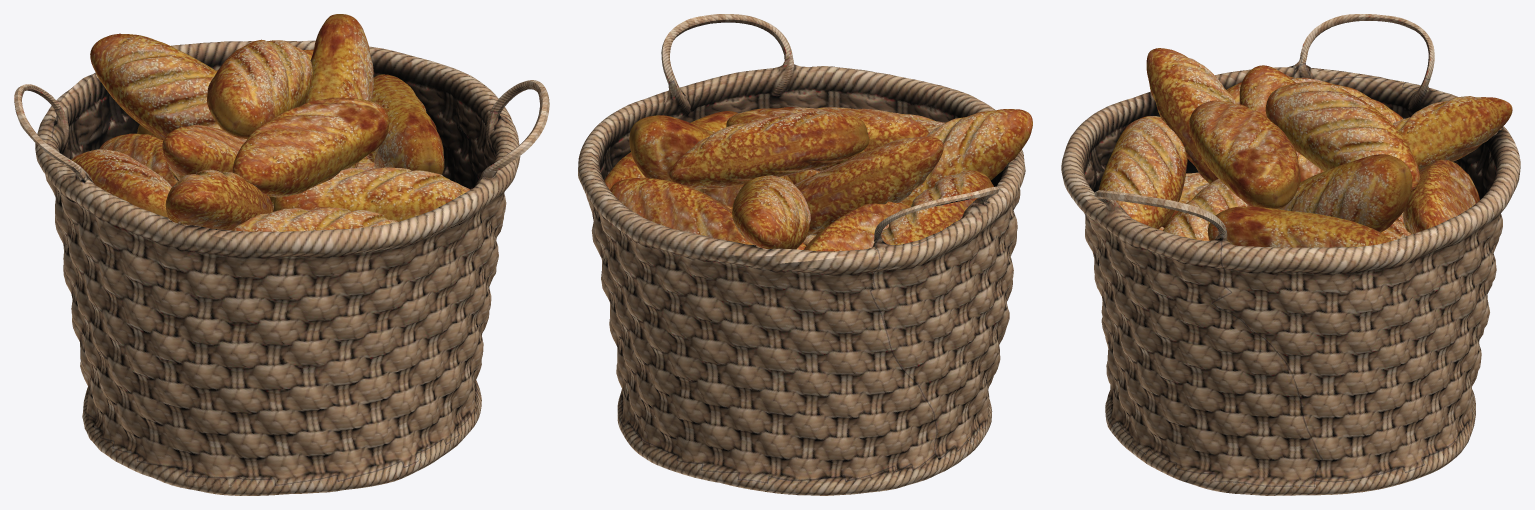
File: obj_bread_in_basket_bb7e9c.glb
The picture shows the model from 3 angles, left to right: view 1: azimuth 30°, elevation 25°; view 2: azimuth 150°, elevation 25°; view 3: azimuth 270°, elevation 25°; orthographic projection. The views are drawn at different scales.
Visible parts, largest first — view 1: obj_bread_in_basket_bb7e9c; view 2: obj_bread_in_basket_bb7e9c; view 3: obj_bread_in_basket_bb7e9c.
Boxes of the visible parts, x1,y1,x2,y2 form: obj_bread_in_basket_bb7e9c: (14, 14, 549, 495); obj_bread_in_basket_bb7e9c: (578, 14, 1032, 495); obj_bread_in_basket_bb7e9c: (1061, 14, 1520, 495).
Size of the model in its own units: 0.4 by 0.3059 by 0.3883.
Materials: 2 (2 with a texture image).
